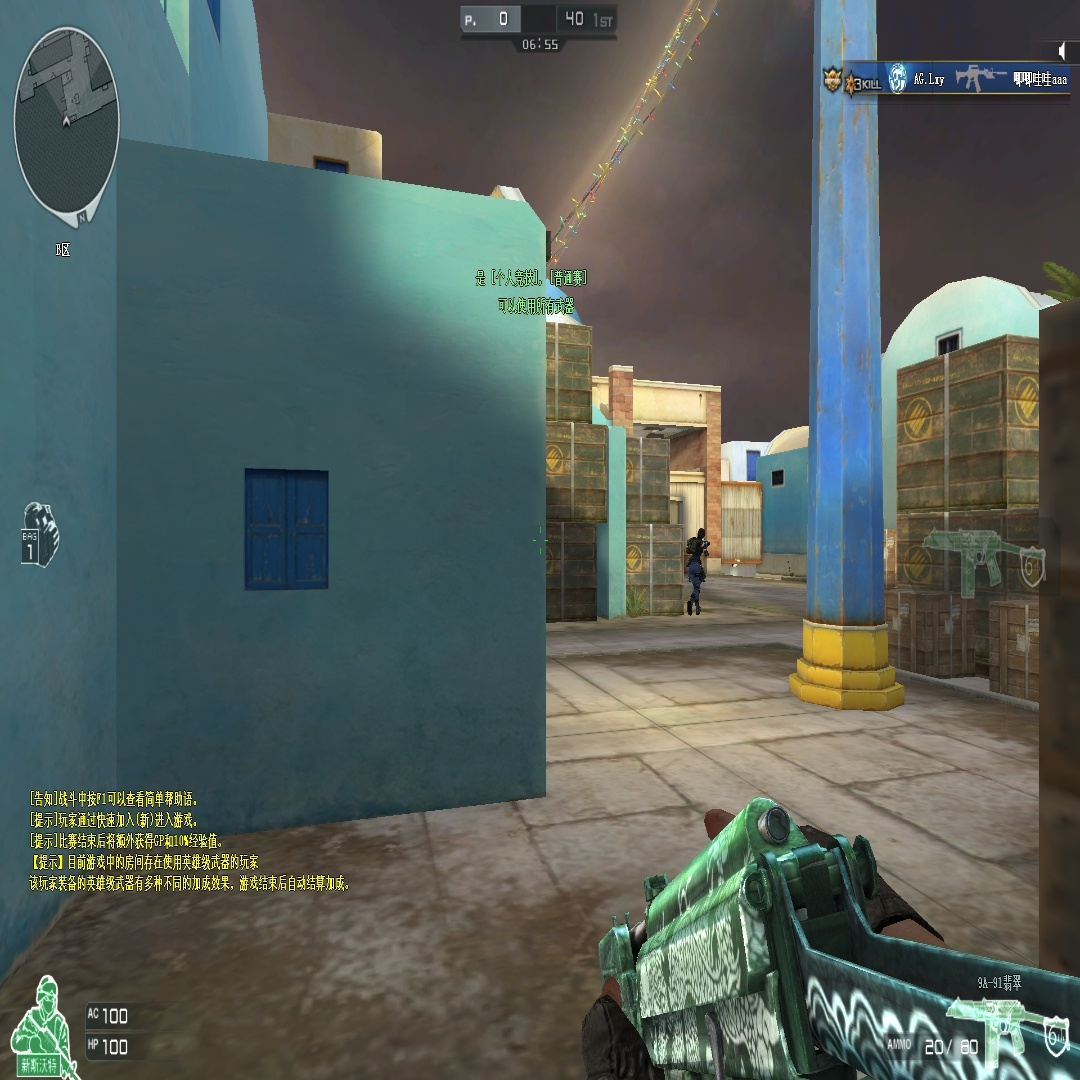p: (683, 522, 709, 614)
